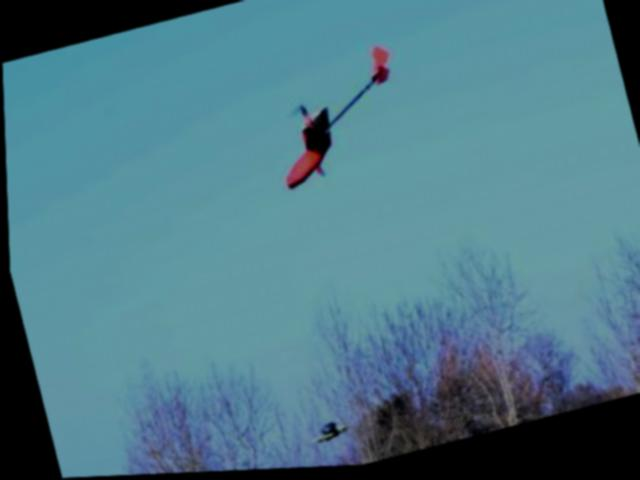uav: (248, 37, 424, 209)
